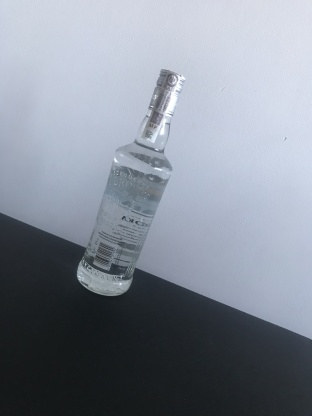nakretka: (146, 66, 187, 119), (154, 83, 186, 118)
